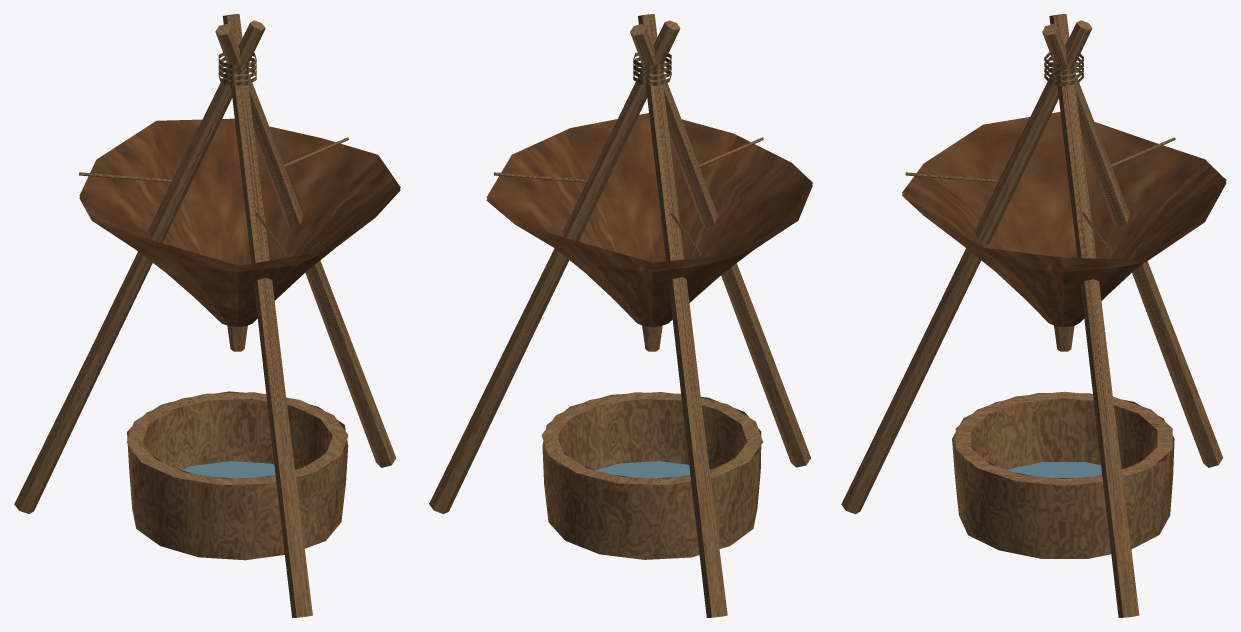
Rendered from PROP_RainCollector.fbx.
3 views of the same model, side by side, from view 1: azimuth 30°, elevation 25°; view 2: azimuth 150°, elevation 25°; view 3: azimuth 270°, elevation 25° (orthographic).
Parts seen in each view (by area): view 1: PROP_RainCollector_Body, Water; view 2: PROP_RainCollector_Body, Water; view 3: PROP_RainCollector_Body, Water.
Boxes of the visible parts, bbox=[...] form: PROP_RainCollector_Body: bbox=[14, 14, 400, 617]; Water: bbox=[182, 461, 275, 478]; PROP_RainCollector_Body: bbox=[429, 14, 812, 617]; Water: bbox=[596, 461, 690, 478]; PROP_RainCollector_Body: bbox=[841, 14, 1226, 617]; Water: bbox=[1007, 462, 1101, 477].
Bounding box in the file's own units: 1.1 × 1.6 × 1.09.
